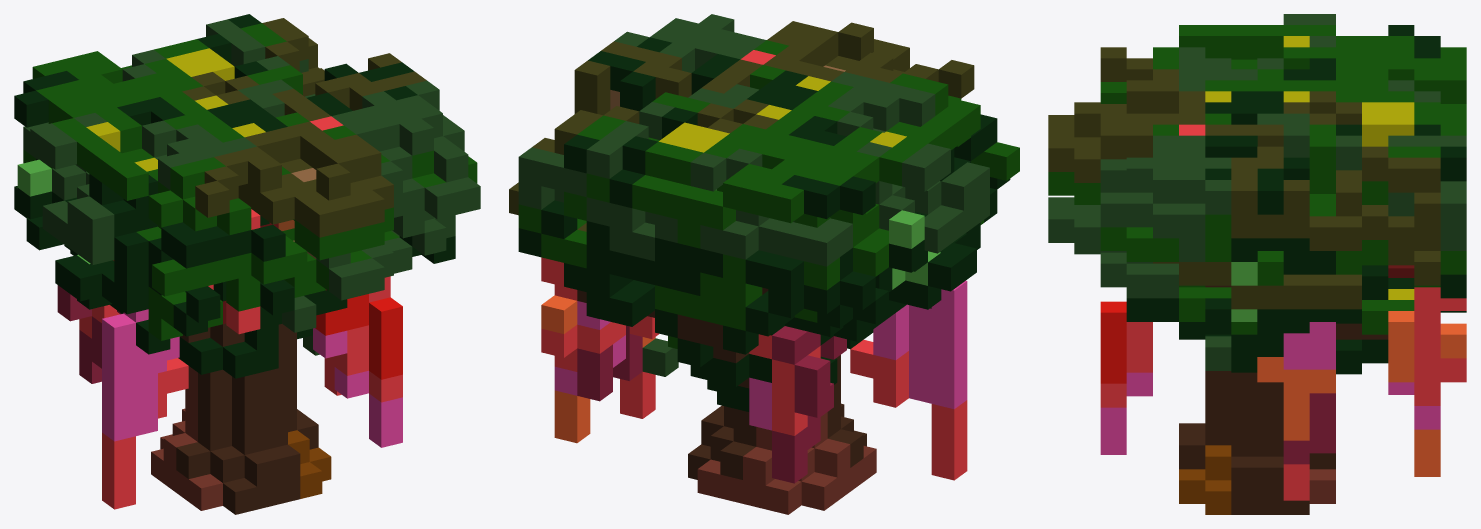
File: Lina_Vanesa_Rico_Laverde_fase_3.obj
3 renders of one model, left to right at view 1: azimuth 30°, elevation 25°; view 2: azimuth 150°, elevation 25°; view 3: azimuth 270°, elevation 25°, orthographic. The views are drawn at different scales.
Visible parts, largest first — view 1: Lina_Vanesa_Rico_Laverde_fase_3; view 2: Lina_Vanesa_Rico_Laverde_fase_3; view 3: Lina_Vanesa_Rico_Laverde_fase_3.
Part boxes in pixels (box(x1,y1,x2,y2)): Lina_Vanesa_Rico_Laverde_fase_3: box(14, 14, 480, 514); Lina_Vanesa_Rico_Laverde_fase_3: box(509, 14, 1019, 514); Lina_Vanesa_Rico_Laverde_fase_3: box(1048, 14, 1466, 514).
Bounding box in the file's own units: 16 × 16 × 16.
Materials: 1 (1 with a texture image).
